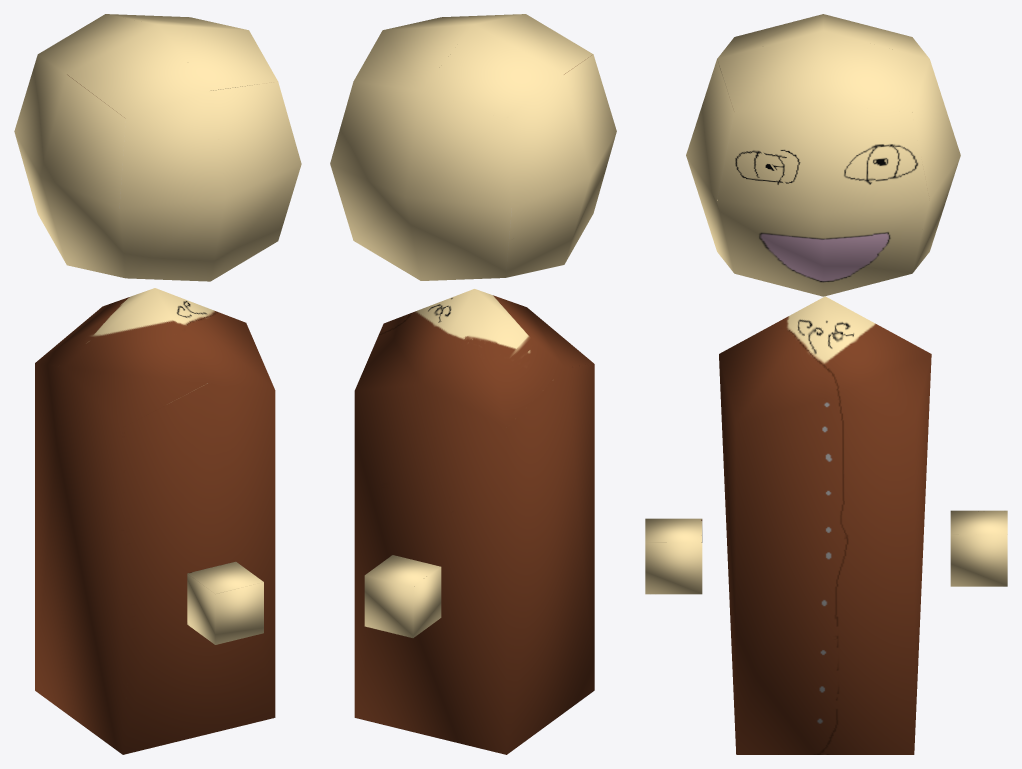
The picture shows the model from 3 angles, left to right: view 1: azimuth 30°, elevation 25°; view 2: azimuth 150°, elevation 25°; view 3: azimuth 270°, elevation 25°; orthographic projection.
Size of the model in its own units: 142 by 390 by 187.
2 materials, 2 textured.
